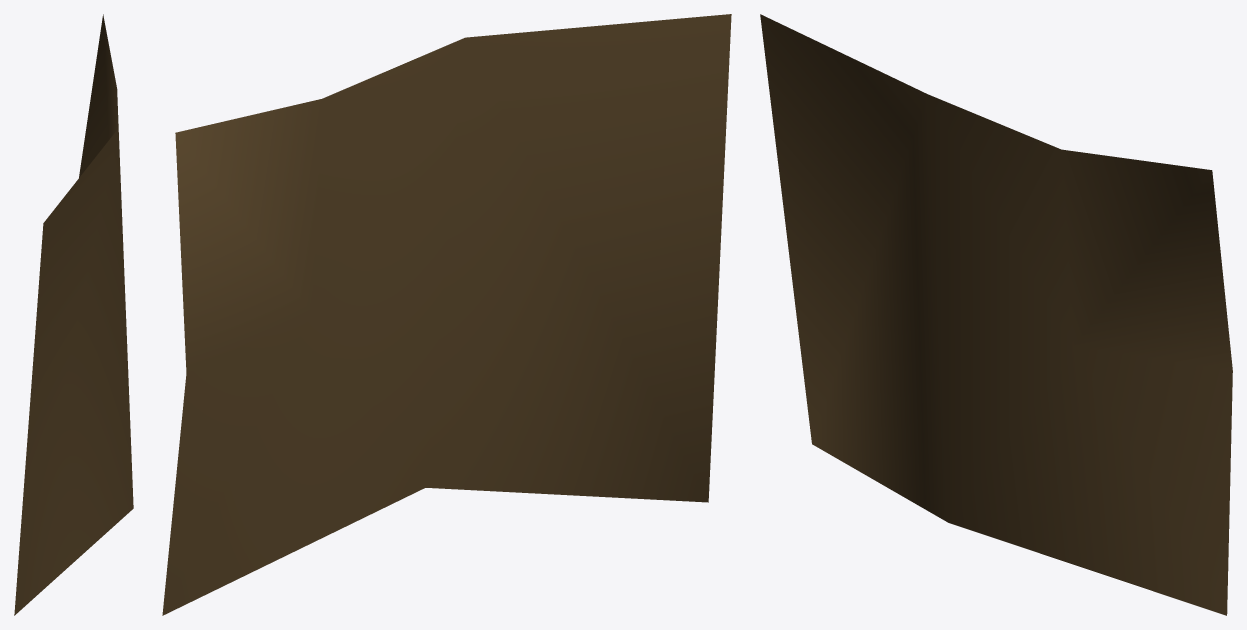
File: SWORDLIGHT20_PS-AREA03_202.fbx
3 renders of one model, left to right at view 1: azimuth 30°, elevation 25°; view 2: azimuth 150°, elevation 25°; view 3: azimuth 270°, elevation 25°, orthographic. The views are drawn at different scales.
Parts seen in each view (by area): view 1: SWORDLIGHT20_PS-AREA03_202; view 2: SWORDLIGHT20_PS-AREA03_202; view 3: SWORDLIGHT20_PS-AREA03_202.
Part boxes in pixels (box(x1,y1,x2,y2)): SWORDLIGHT20_PS-AREA03_202: box(14, 14, 133, 615); SWORDLIGHT20_PS-AREA03_202: box(162, 14, 731, 615); SWORDLIGHT20_PS-AREA03_202: box(760, 14, 1232, 615).
Size of the model in its own units: 31926 by 46857 by 43780.
Materials: 1 (1 with a texture image).
